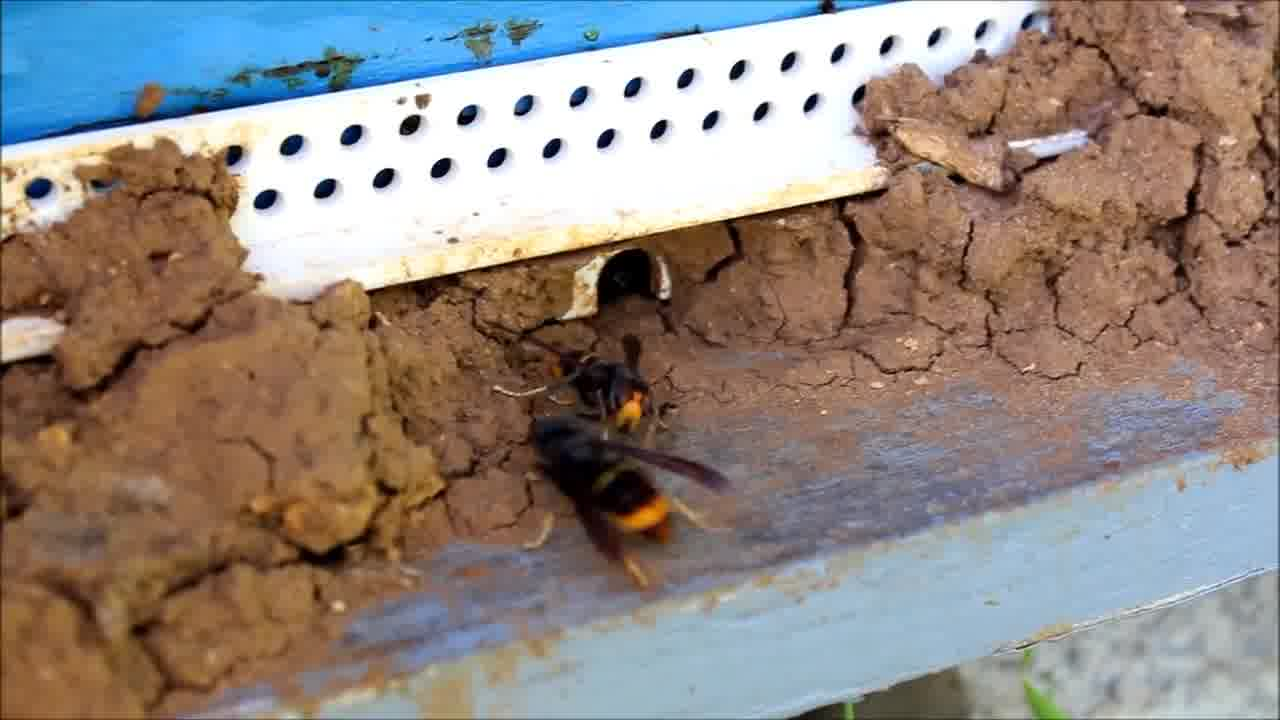hornet: (508, 406, 714, 582), (539, 327, 694, 451)
